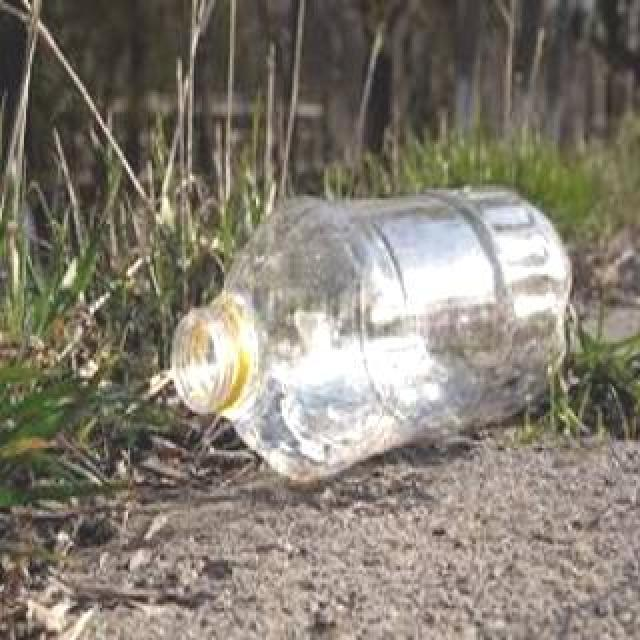Pet_Bottle: (169, 185, 569, 491)
